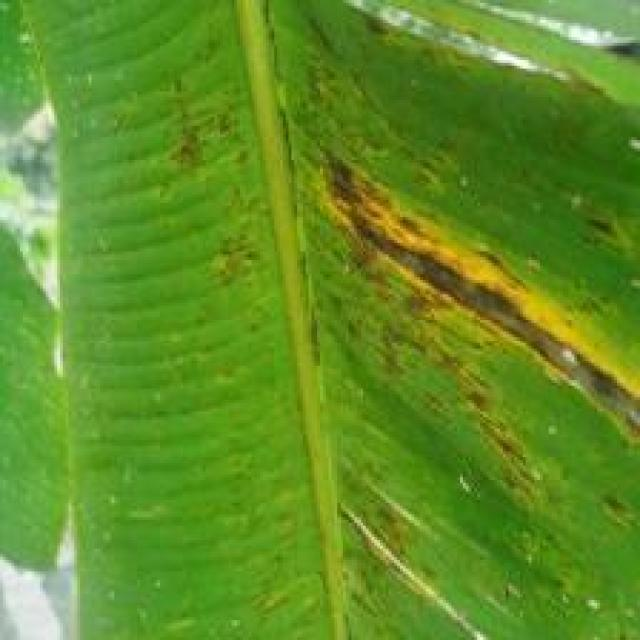Downey_mildrew: (257, 3, 640, 640)
